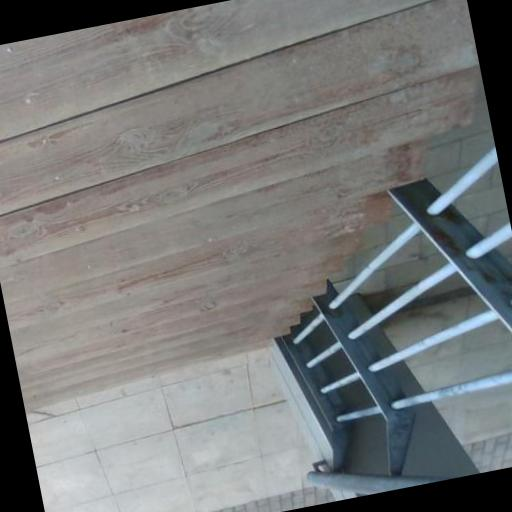stairs: (0, 0, 478, 409)
